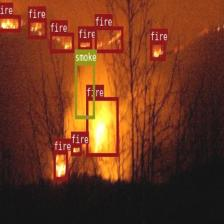fire: (86, 96, 118, 156), (94, 26, 123, 52), (50, 32, 74, 52), (53, 150, 67, 180), (0, 14, 20, 32), (28, 18, 46, 38), (150, 41, 165, 60), (78, 38, 91, 50), (71, 144, 81, 156)
smoke: (74, 61, 94, 119)
